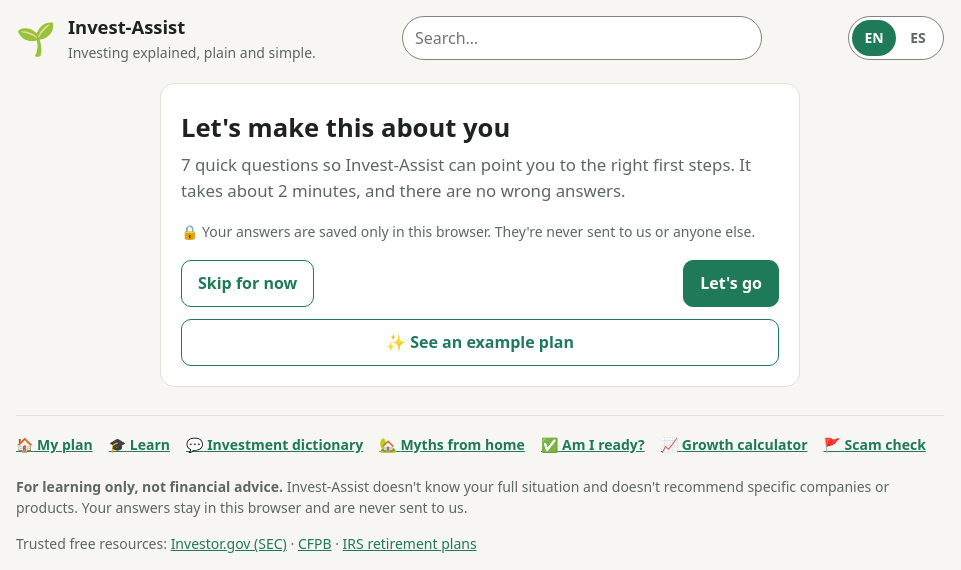
Test: navigation › searches across lessons and dictionary terms
Step 1. Type "roth" into the search field named "Search lessons" → (582, 38), box [402,16,762,60]
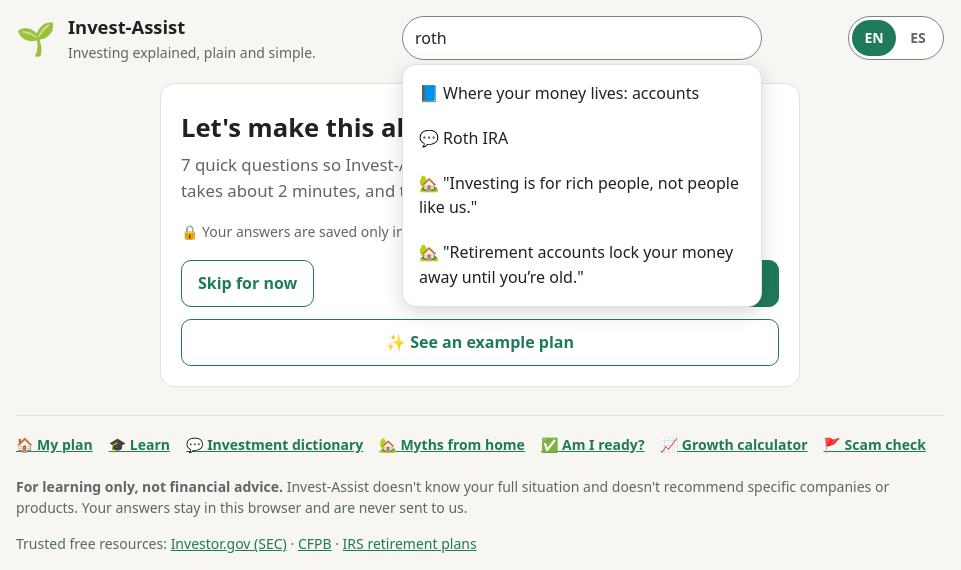
Now the link "💬 Roth IRA" is shown, box [419,127,508,149]
